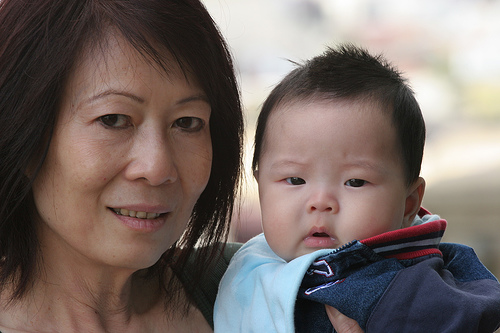without_mask: (20, 6, 245, 272), (249, 74, 434, 269)
